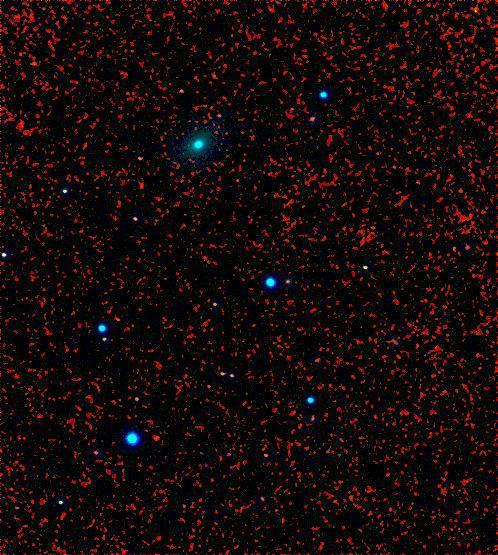star: (139, 422, 169, 452)
